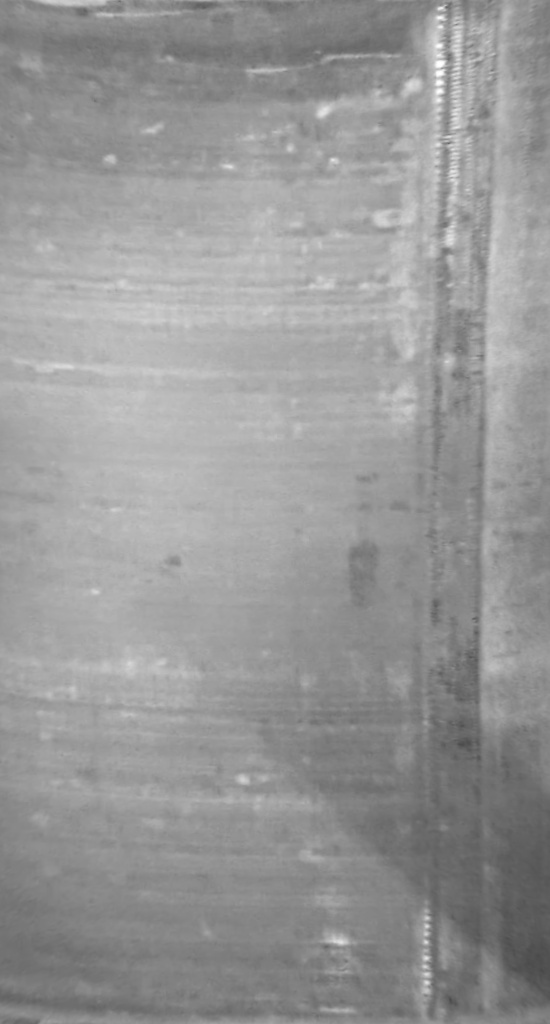splice: (426, 1, 513, 1023)
